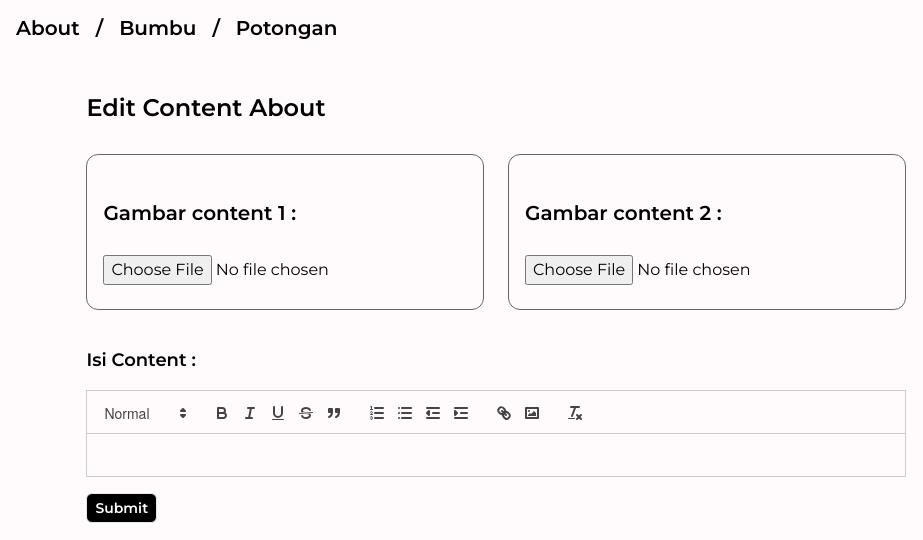
Test case: Dashboard › should render ProductPotong component when user click link 'Potongan'
Click the link "Potongan": x=287, y=28 [236,16,337,40]
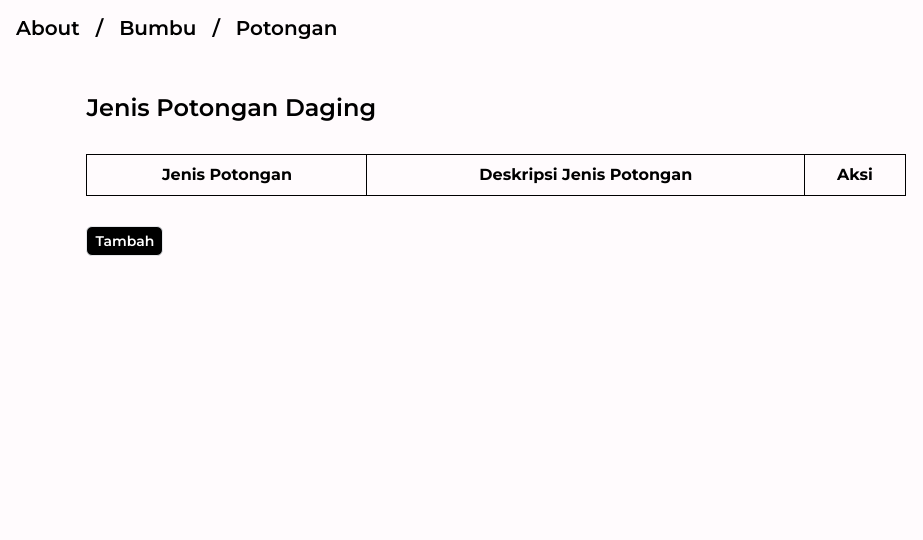
Expected: the heading "Jenis Potongan Daging" is shown, [86,93,376,122]
